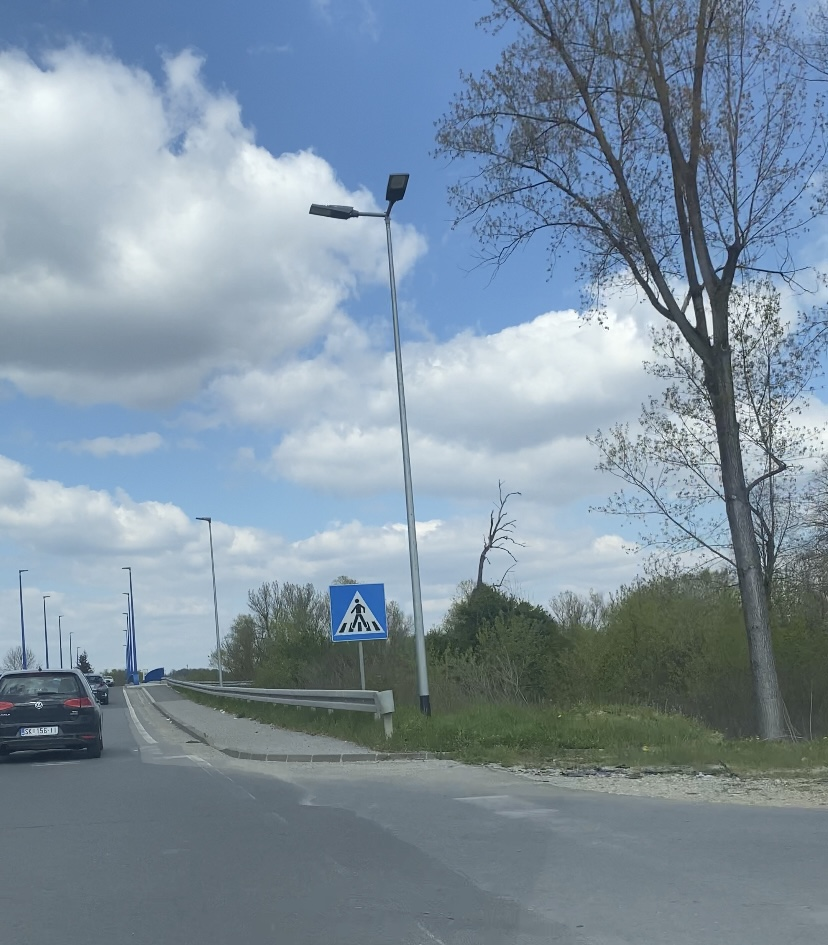Pješački prijelaz: (329, 583, 388, 642)
